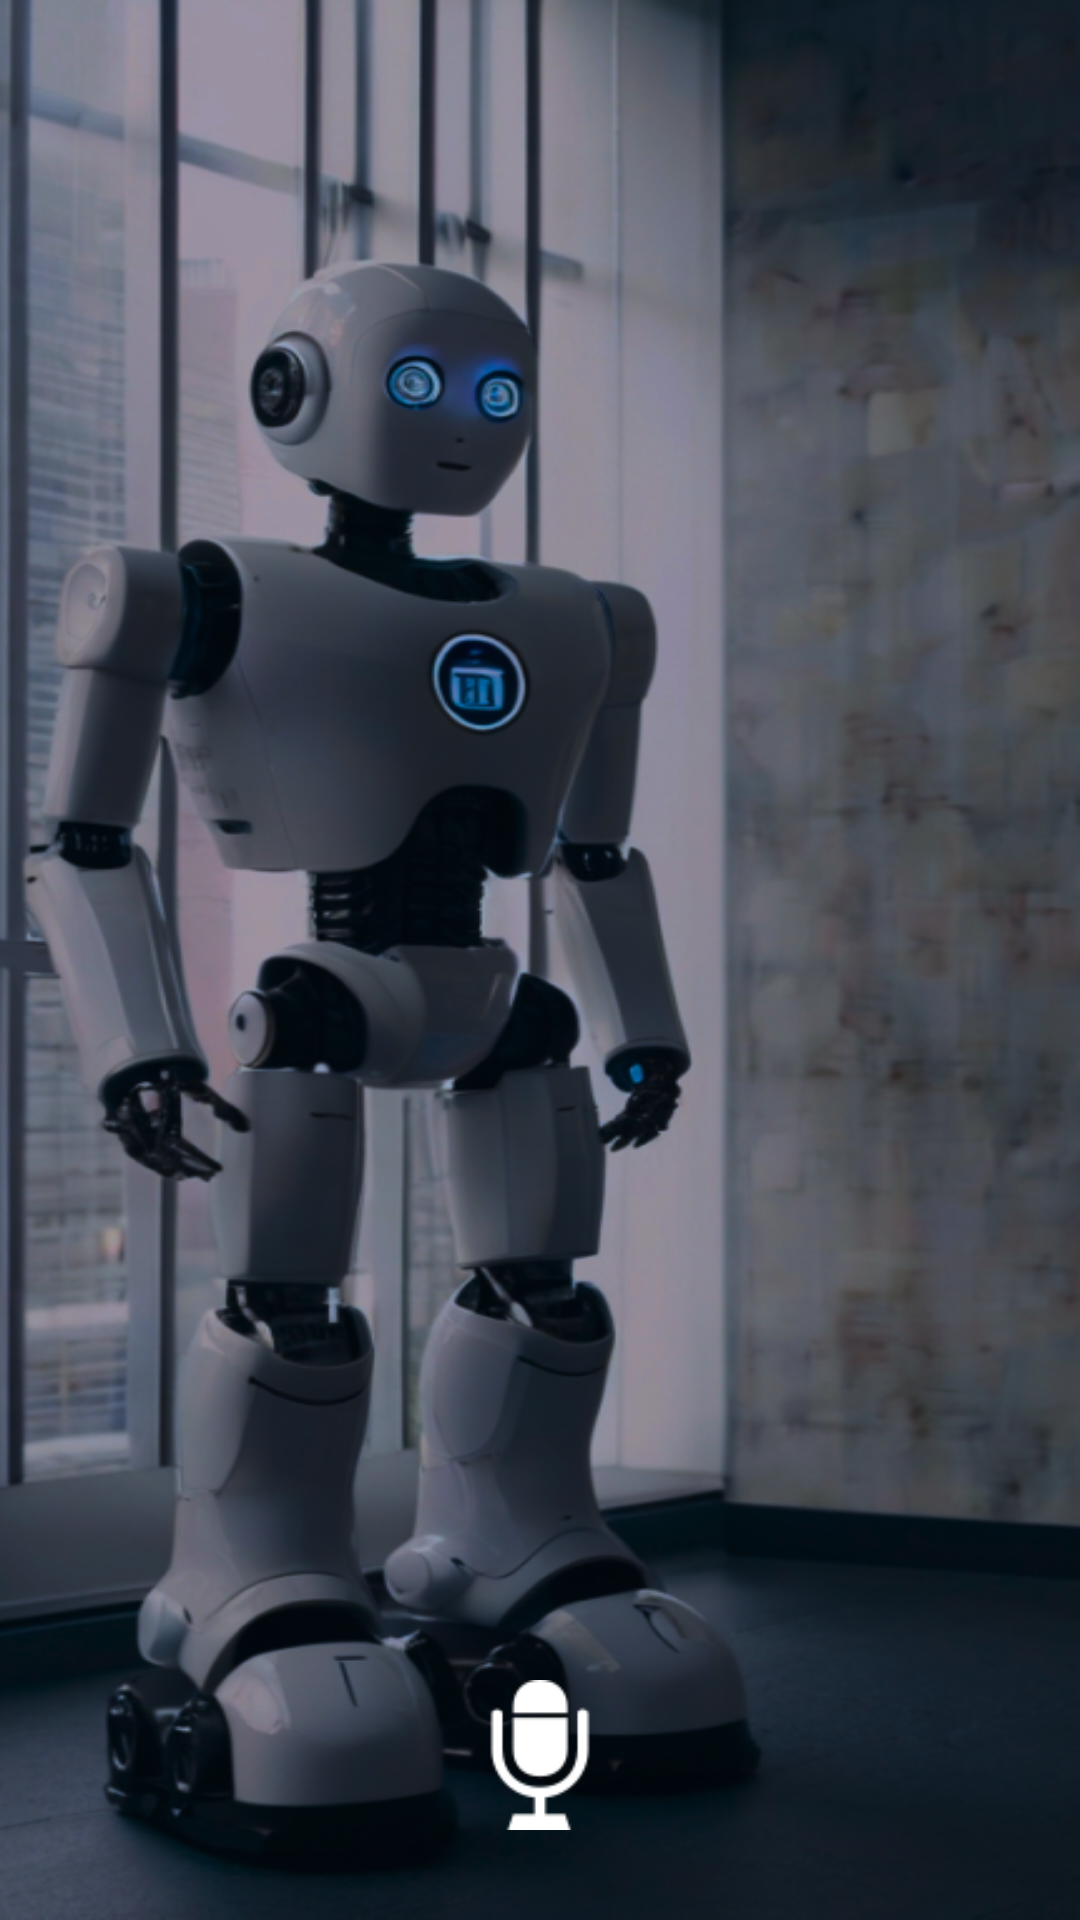

Point at icon controls on the screen. Image size 1080*1920, points as point (x, y).
micro: point (540, 1740)
